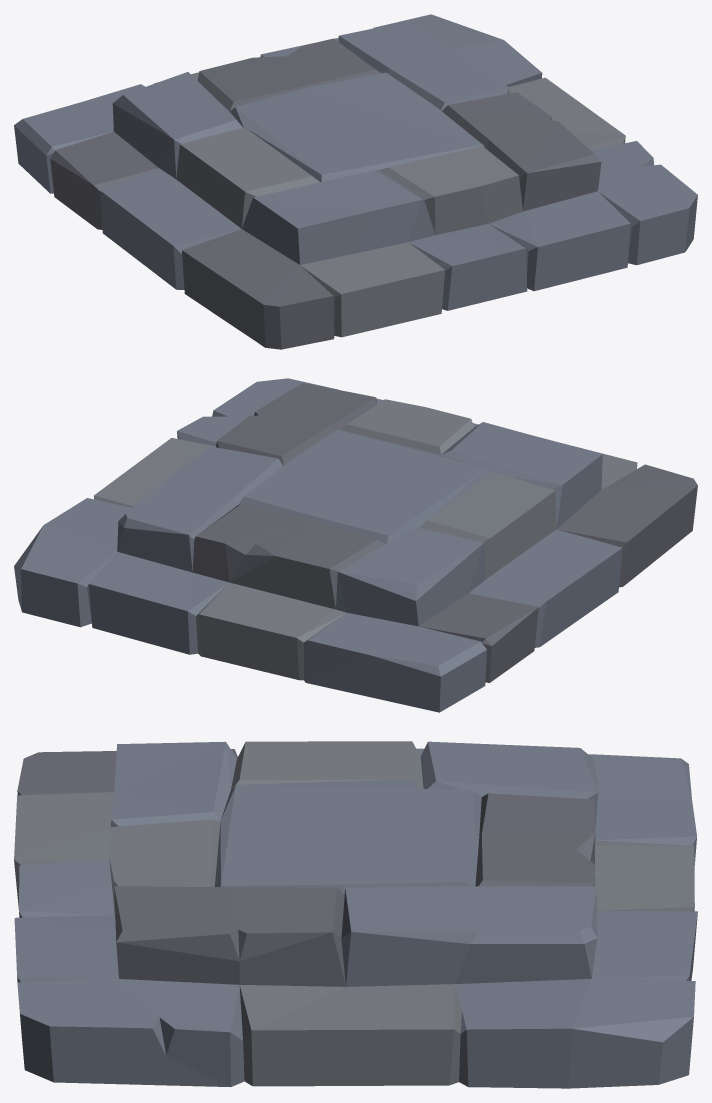
The model's file is Throne_03.fbx.
3 renders of one model, top to bottom at view 1: azimuth 30°, elevation 25°; view 2: azimuth 150°, elevation 25°; view 3: azimuth 270°, elevation 25°, orthographic. The views are drawn at different scales.
Visible parts, largest first — view 1: Throne_03; view 2: Throne_03; view 3: Throne_03.
Boxes of the visible parts, box(x1,y1,x2,y2) form: Throne_03: box(14, 14, 697, 349); Throne_03: box(14, 378, 697, 712); Throne_03: box(14, 741, 697, 1088).
Size of the model in its own units: 77.06 by 13.95 by 78.19.
